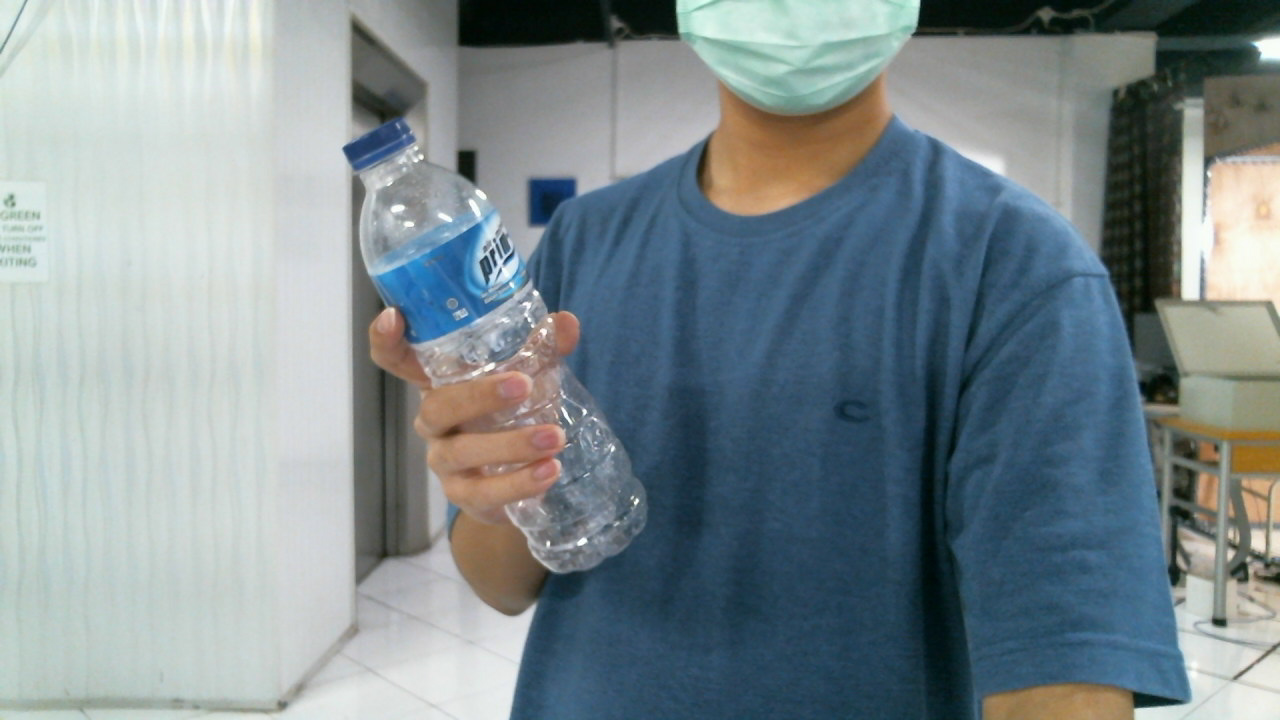Bottle: (340, 118, 649, 566)
